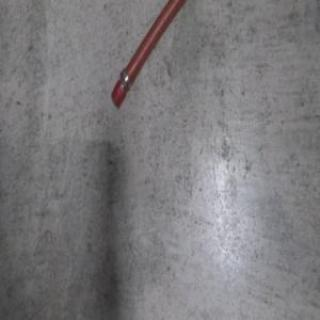Hosetrack_idkeyframe: (110, 0, 195, 110)
